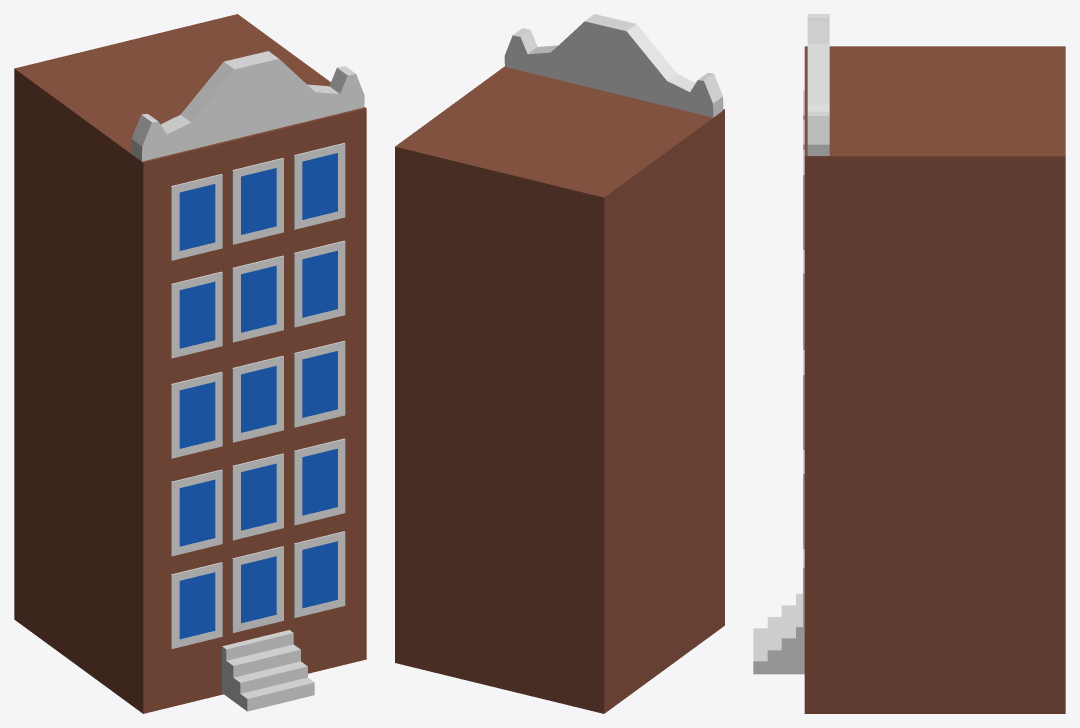
Rendered from House 2.fbx.
The picture shows the model from 3 angles, left to right: view 1: azimuth 30°, elevation 25°; view 2: azimuth 150°, elevation 25°; view 3: azimuth 270°, elevation 25°; orthographic projection. The views are drawn at different scales.
Parts seen in each view (by area): view 1: House 2, House 2 Details, House 2 Windows; view 2: House 2, House 2 Details; view 3: House 2, House 2 Details.
Part boxes in pixels (box(x1,y1,x2,y2)): House 2: box(14, 14, 366, 713); House 2 Details: box(131, 51, 364, 711); House 2 Windows: box(179, 153, 337, 639); House 2: box(395, 66, 724, 713); House 2 Details: box(504, 14, 723, 117); House 2: box(804, 46, 1065, 713); House 2 Details: box(753, 14, 829, 674).
Bounding box in the file's own units: 200 × 531 × 239.
